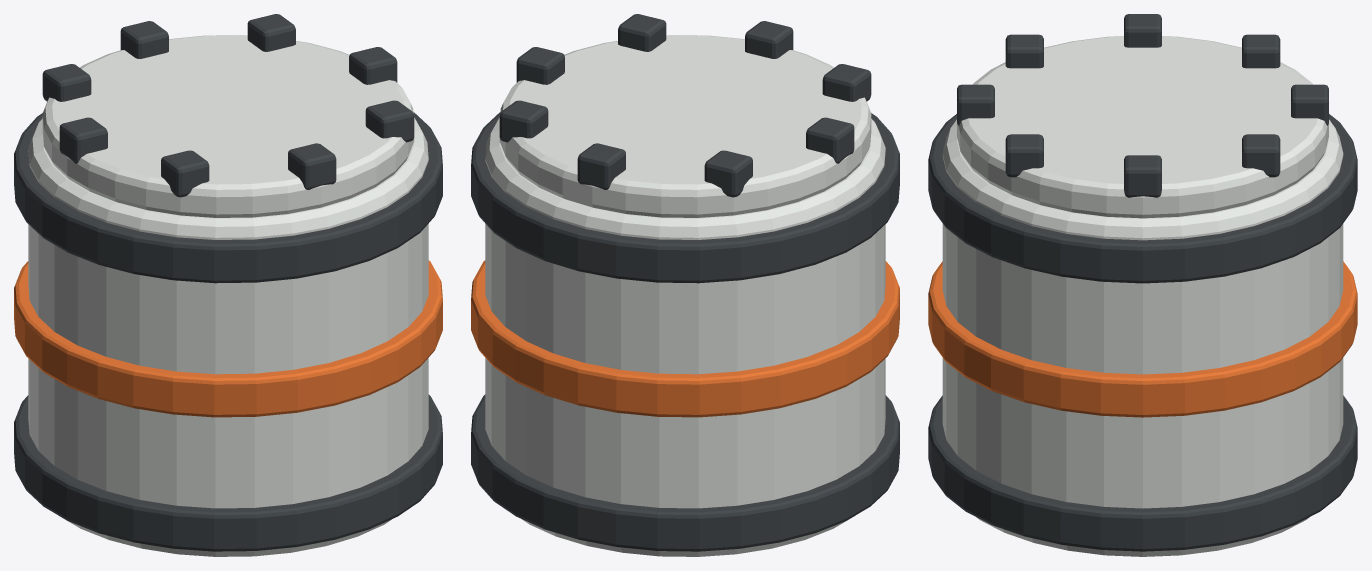
Rendered from SM_Steelworks_ProcessDrum.fbx.
3 views of the same model, side by side, from view 1: azimuth 30°, elevation 25°; view 2: azimuth 150°, elevation 25°; view 3: azimuth 270°, elevation 25° (orthographic).
Parts seen in each view (by area): view 1: SM_Steelworks_ProcessDrum; view 2: SM_Steelworks_ProcessDrum; view 3: SM_Steelworks_ProcessDrum.
Part boxes in pixels (bbox=[...]): SM_Steelworks_ProcessDrum: bbox=[14, 14, 442, 556]; SM_Steelworks_ProcessDrum: bbox=[471, 14, 899, 556]; SM_Steelworks_ProcessDrum: bbox=[928, 14, 1357, 556].
Bounding box in the file's own units: 90 × 90 × 89.5.
